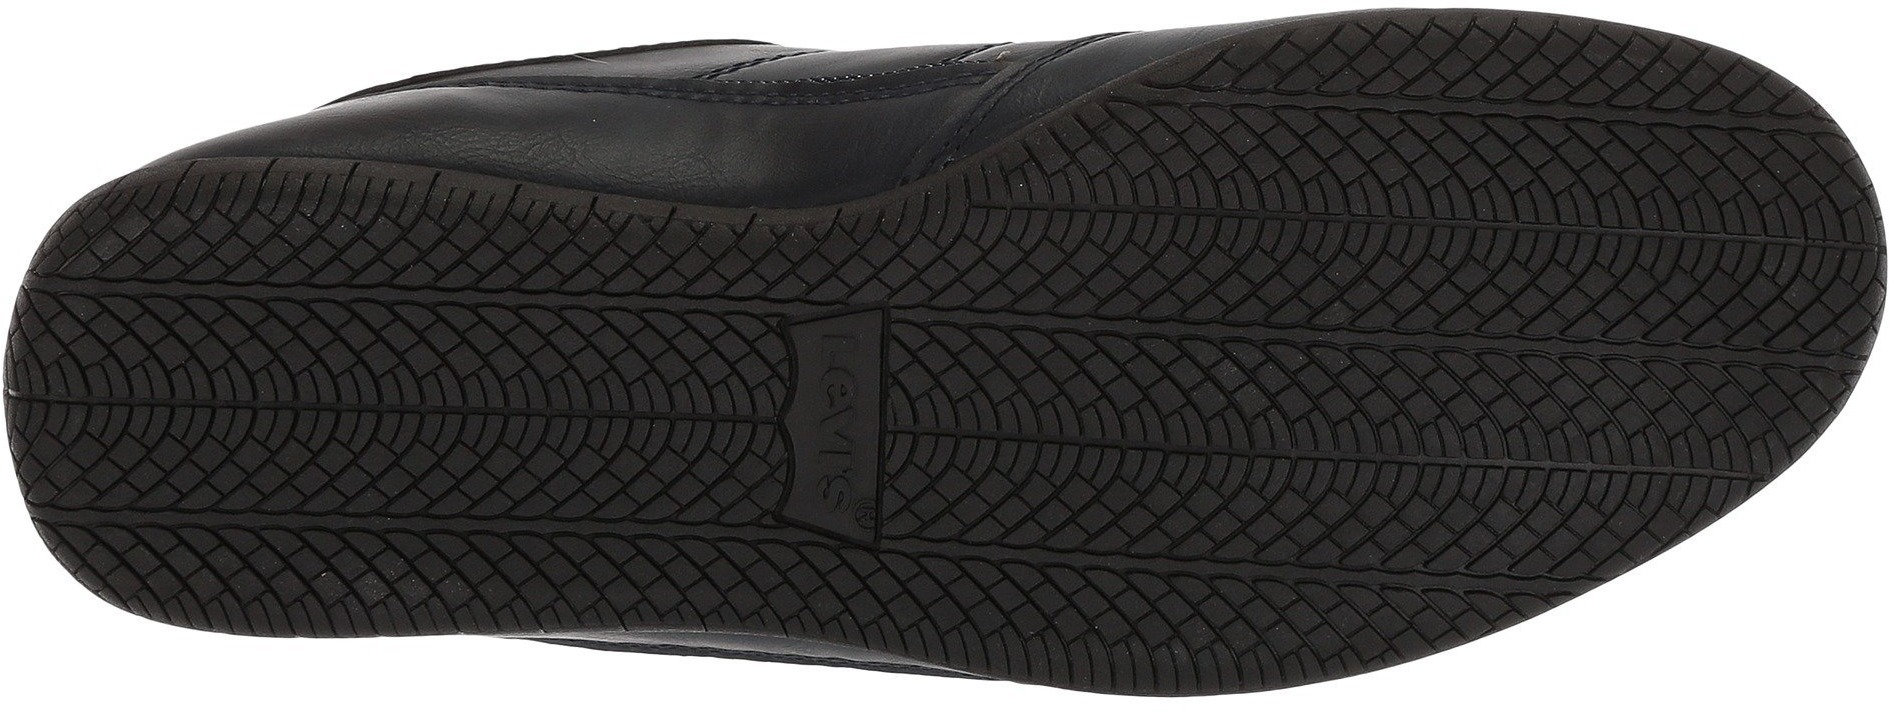quad: (378, 223, 751, 589), (1296, 120, 1638, 472), (27, 255, 370, 551), (981, 171, 1279, 445), (1642, 183, 1855, 398), (1108, 479, 1322, 678), (887, 460, 1095, 658), (1331, 483, 1488, 624)
text: (799, 329, 891, 425)
